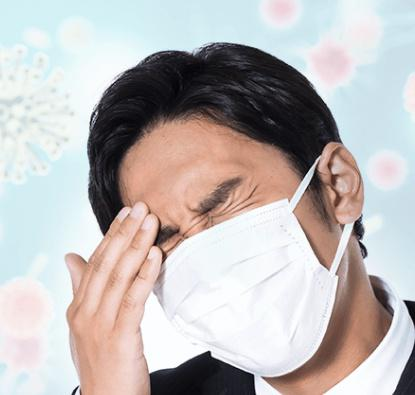OK: (124, 163, 331, 379)
